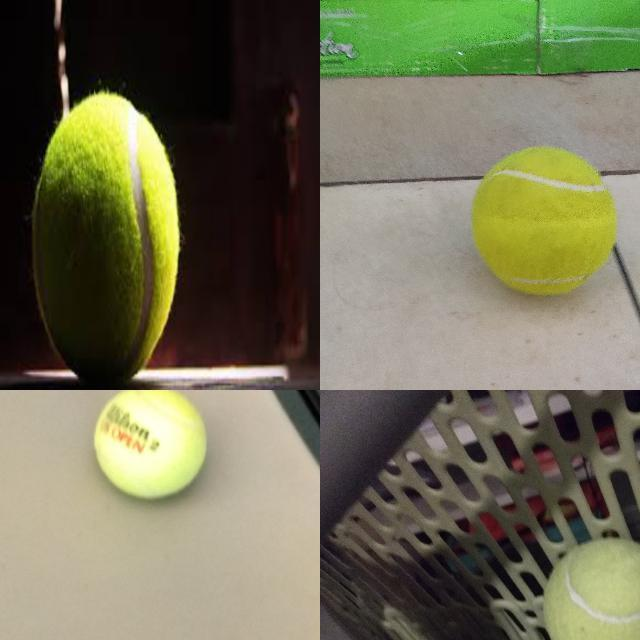tennis-ball: (31, 89, 181, 385), (471, 146, 618, 295), (90, 390, 209, 501), (542, 537, 639, 639)
